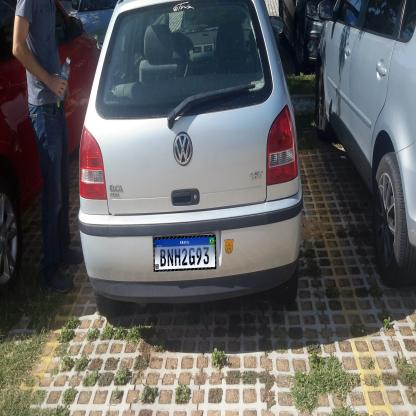PlacaM: (154, 235, 216, 272)
